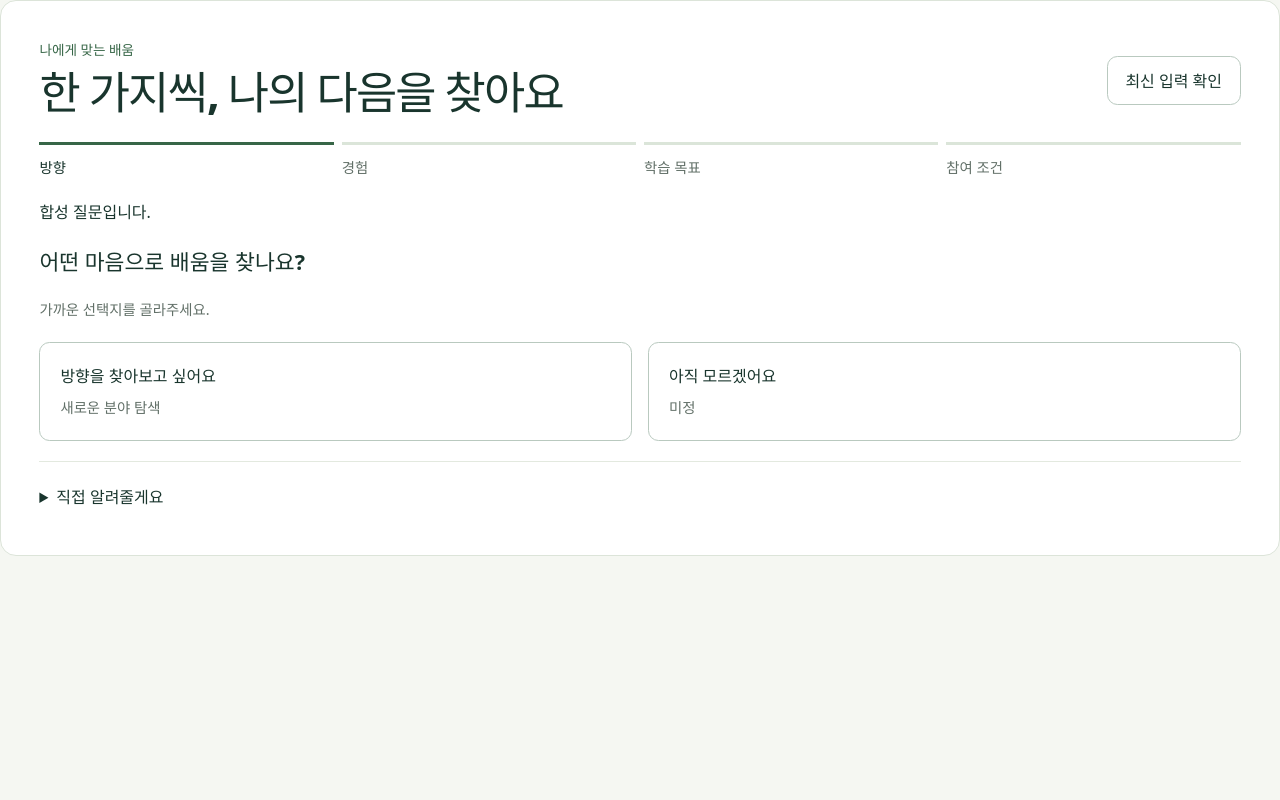
Test case: 선택 제출과 다음 질문 › 답변 제출 실패 후 같은 선택을 재시도하면 같은 멱등 키를 유지한다
Step 1. Click the button "방향을 찾아보고 싶어요 새로운 분야 탐색" → coordinates (138, 376), box x1=39 y1=342 x2=632 y2=440
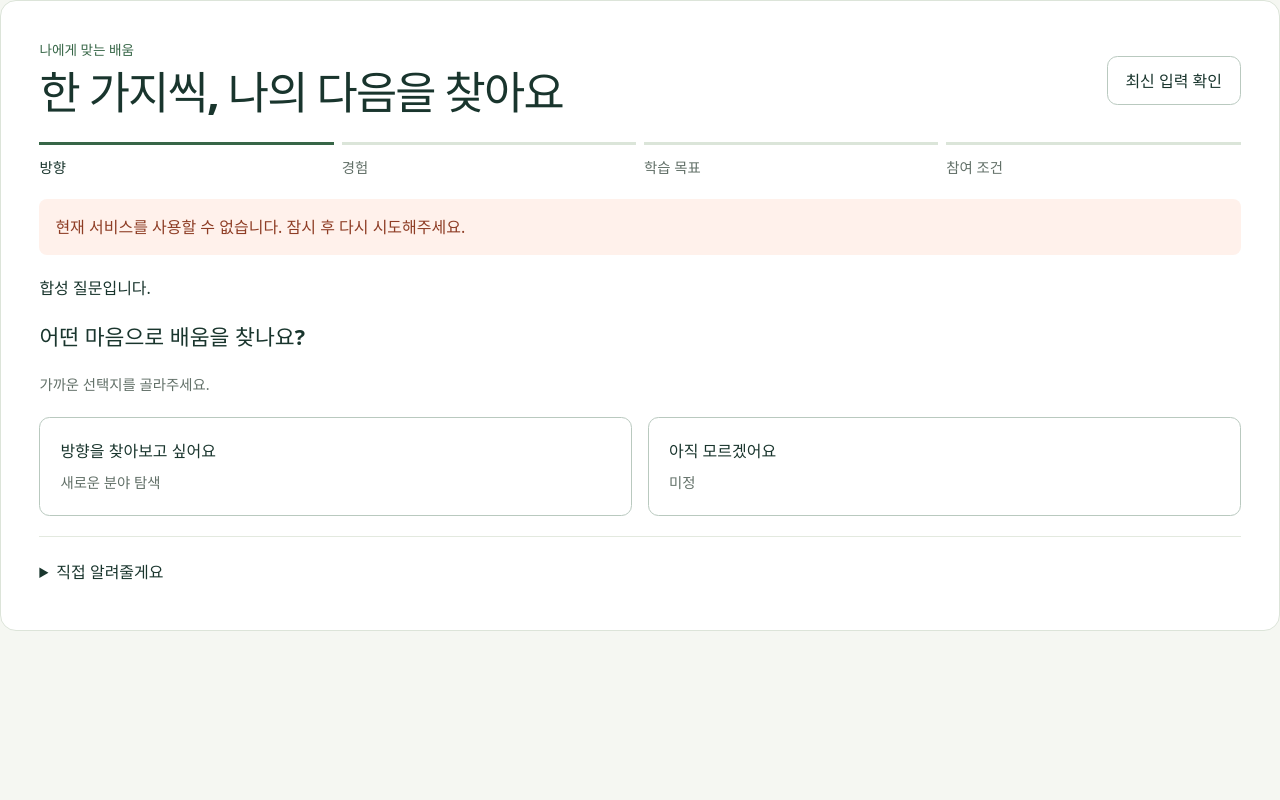
Expected: the message "현재 서비스를 사용할 수 없습니다. 잠시 후 다시 시도해주세요." is shown, x1=39 y1=199 x2=1241 y2=255
Step 2. Click the button "방향을 찾아보고 싶어요 새로운 분야 탐색" → coordinates (138, 451), box x1=39 y1=417 x2=632 y2=516
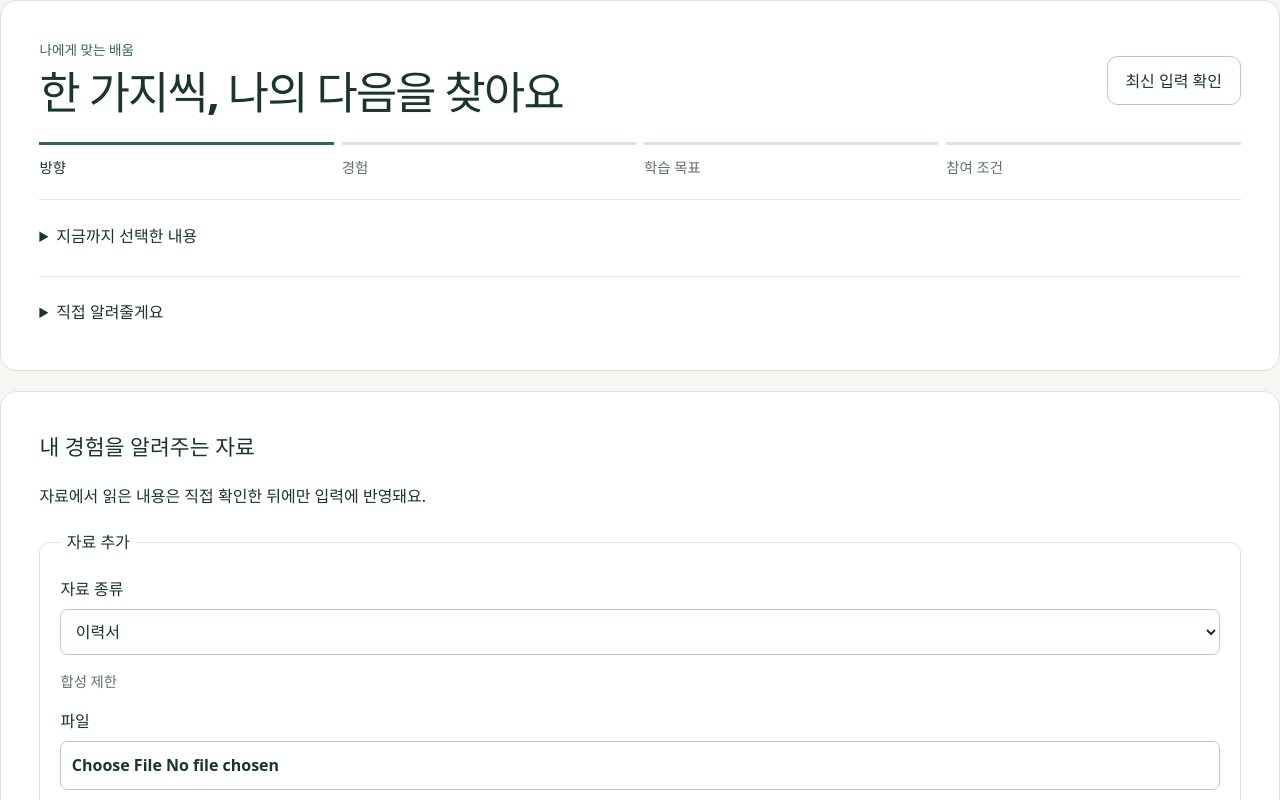
Expected: the heading "어떤 마음으로 배움을 찾나요?" is gone
